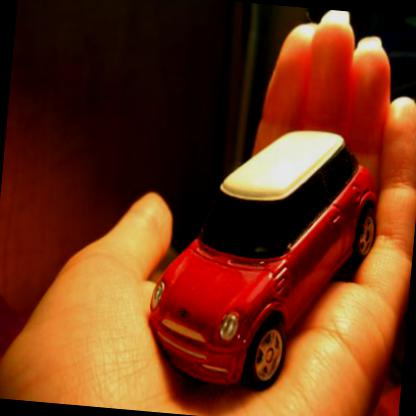car: (144, 118, 385, 404)
